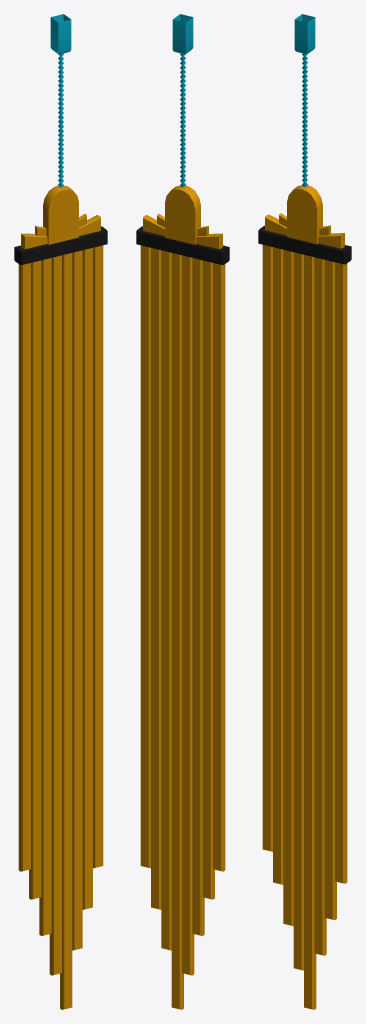
The model's file is RF_Int_A_02.fbx.
3 views of the same model, side by side, from view 1: azimuth 30°, elevation 25°; view 2: azimuth 150°, elevation 25°; view 3: azimuth 330°, elevation 25° (orthographic).
Visible parts, largest first — view 1: RF_Int_A_02; view 2: RF_Int_A_02; view 3: RF_Int_A_02.
Part boxes in pixels (left/top/right/bottom): RF_Int_A_02: left=14, top=14, right=107, bottom=1009; RF_Int_A_02: left=136, top=14, right=229, bottom=1009; RF_Int_A_02: left=258, top=14, right=351, bottom=1009.
Bounding box in the file's own units: 21.05 × 229 × 3.17.
